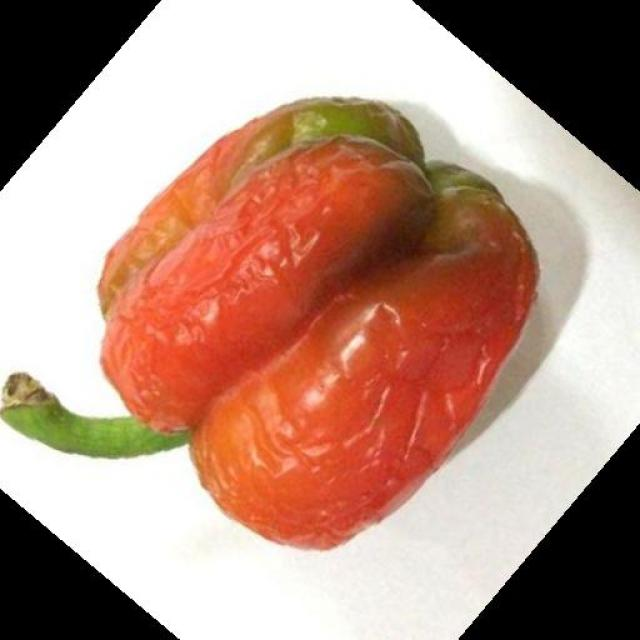Stale_Capsicum: (74, 74, 510, 539)
